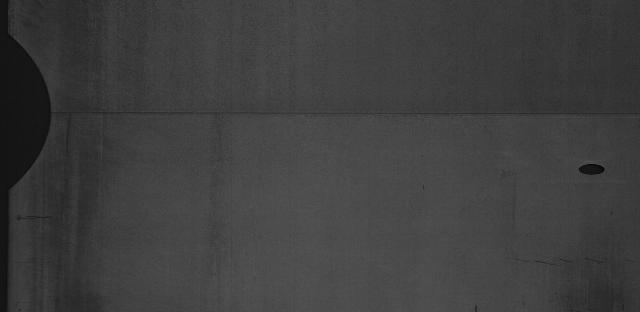punching_hole: (577, 158, 610, 179)
welding_line: (50, 98, 639, 124)
